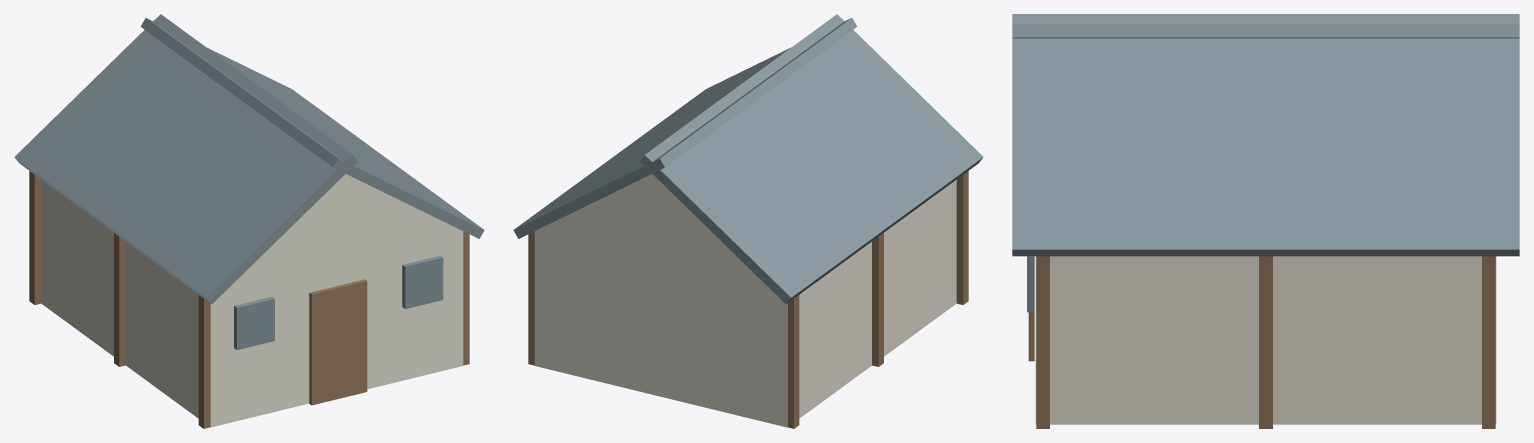
The model's file is keeper_cottage.glb.
3 views of the same model, side by side, from view 1: azimuth 30°, elevation 25°; view 2: azimuth 150°, elevation 25°; view 3: azimuth 270°, elevation 25° (orthographic). The views are drawn at different scales.
Visible parts, largest first — view 1: Roof, Plaster, Roof.001, Gable, Door, Window.001, Window, Post.002, Post, Post.001, Post.003; view 2: Plaster, Roof, Roof.001, Gable.001, Post, Post.002, Post.001, Post.005; view 3: Roof.001, Plaster, Roof, Post.003, Post.004, Post.005.
Part boxes in pixels (x1,y1,x2,y2): Roof: (14, 14, 358, 303); Plaster: (41, 180, 463, 427); Roof.001: (140, 18, 484, 238); Gable: (239, 174, 451, 277); Door: (309, 279, 367, 405); Window.001: (402, 255, 443, 308); Window: (234, 296, 274, 350); Post.002: (29, 171, 41, 304); Post: (198, 295, 210, 428); Post.001: (114, 233, 125, 366); Post.003: (463, 231, 469, 365); Plaster: (534, 180, 956, 427); Roof: (639, 14, 983, 303); Roof.001: (513, 18, 857, 238); Gable.001: (546, 174, 758, 277); Post: (956, 171, 968, 304); Post.002: (787, 295, 799, 428); Post.001: (872, 233, 883, 366); Post.005: (528, 231, 534, 365); Roof.001: (1012, 14, 1519, 256); Plaster: (1035, 256, 1496, 424); Roof: (1012, 23, 1519, 38); Post.003: (1036, 256, 1049, 428); Post.004: (1259, 256, 1272, 428); Post.005: (1482, 256, 1495, 428).
Bounding box in the file's own units: 5.5 × 4.66 × 6.6.
